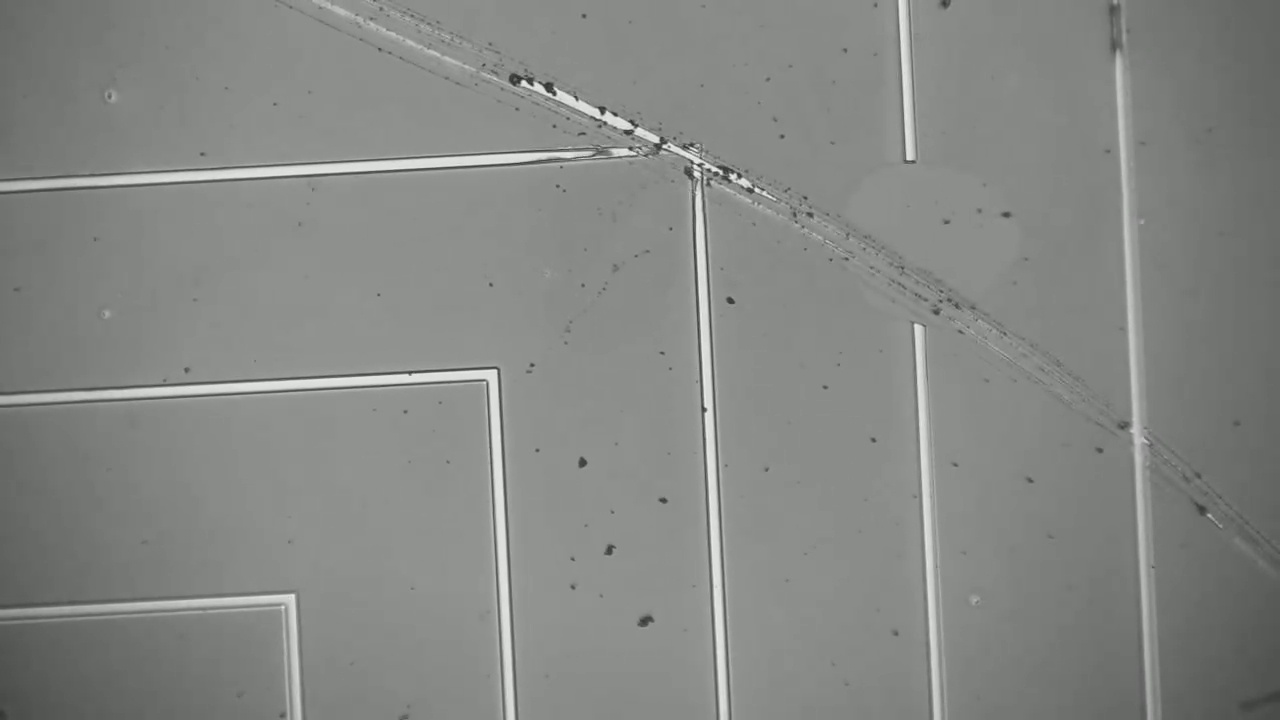gray_line: (1093, 1, 1146, 79)
open: (860, 120, 951, 362)
scratch: (745, 179, 1265, 544), (256, 0, 696, 145)
